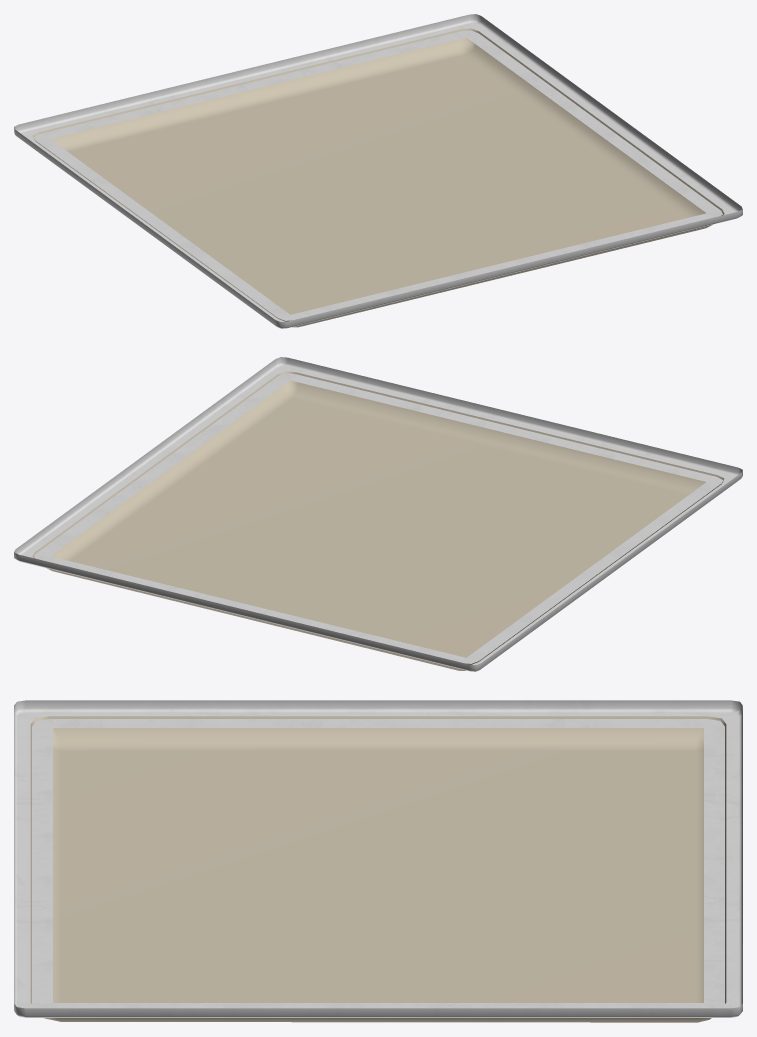
Rendered from CeilingLight_01.FBX.
3 renders of one model, top to bottom at view 1: azimuth 30°, elevation 25°; view 2: azimuth 150°, elevation 25°; view 3: azimuth 270°, elevation 25°, orthographic. The views are drawn at different scales.
Parts seen in each view (by area): view 1: CeilingLight_01; view 2: CeilingLight_01; view 3: CeilingLight_01.
Part boxes in pixels (x1,y1,x2,y2): CeilingLight_01: (14, 14, 742, 328); CeilingLight_01: (14, 357, 742, 671); CeilingLight_01: (14, 700, 742, 1022).
Bounding box in the file's own units: 60 × 2.82 × 60.
